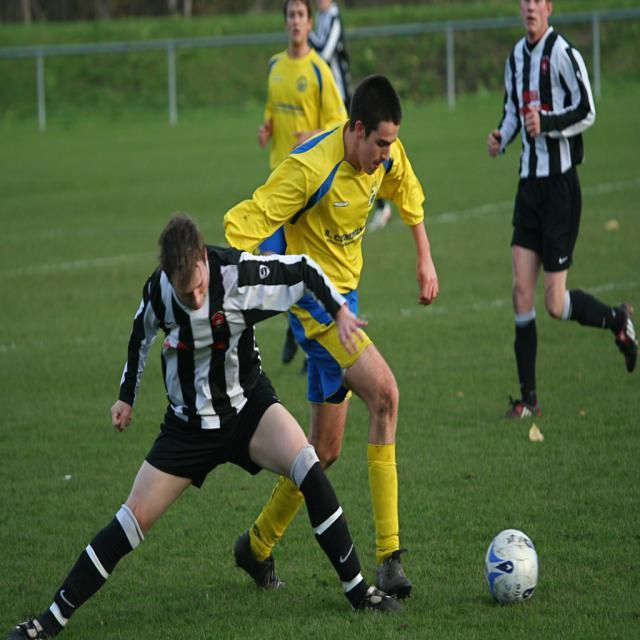football: (484, 524, 547, 611)
